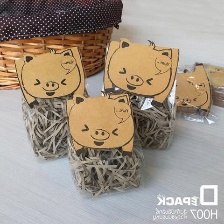snack: (10, 41, 97, 166), (97, 32, 186, 154), (59, 86, 150, 204)
